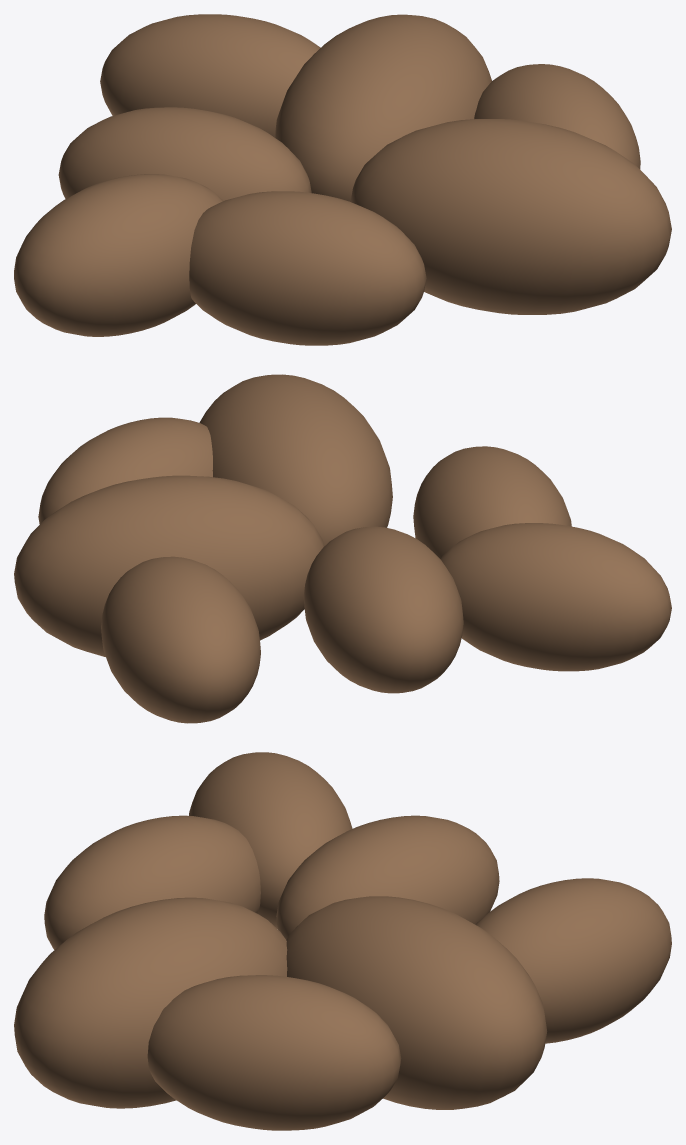
The model's file is potato.fbx.
3 renders of one model, top to bottom at view 1: azimuth 30°, elevation 25°; view 2: azimuth 150°, elevation 25°; view 3: azimuth 270°, elevation 25°, orthographic. The views are drawn at different scales.
Visible parts, largest first — view 1: Sphere.002, Sphere.003, Sphere.006, Sphere, Sphere.005, Sphere.004, Sphere.007; view 2: Sphere, Sphere.006, Sphere.002, Sphere.004, Sphere.005, Sphere.003, Sphere.007; view 3: Sphere, Sphere.002, Sphere.007, Sphere.005, Sphere.003, Sphere.004, Sphere.006.
Part boxes in pixels (<box>): Sphere.002: <box>350,119,671,314</box>; Sphere.003: <box>189,191,426,345</box>; Sphere.006: <box>14,174,223,336</box>; Sphere: <box>274,14,491,201</box>; Sphere.005: <box>100,14,320,137</box>; Sphere.004: <box>58,107,311,200</box>; Sphere.007: <box>474,64,640,169</box>; Sphere: <box>14,475,323,656</box>; Sphere.006: <box>440,523,671,671</box>; Sphere.002: <box>199,374,392,546</box>; Sphere.004: <box>303,526,463,693</box>; Sphere.005: <box>101,556,260,723</box>; Sphere.003: <box>413,446,571,558</box>; Sphere.007: <box>38,417,212,524</box>; Sphere: <box>286,896,547,1109</box>; Sphere.002: <box>14,897,287,1108</box>; Sphere.007: <box>147,975,401,1130</box>; Sphere.005: <box>475,878,671,1043</box>; Sphere.003: <box>44,815,260,949</box>; Sphere.004: <box>276,815,499,939</box>; Sphere.006: <box>189,752,352,928</box>.
Bounding box in the file's own units: 20.81 × 5.65 × 19.08.
